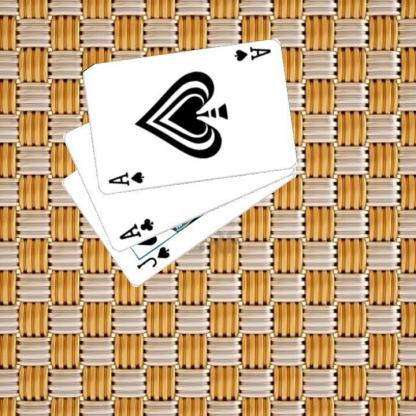AC: (116, 216, 155, 242)
AS: (231, 44, 272, 63), (105, 169, 145, 188)
JS: (134, 244, 171, 270)
